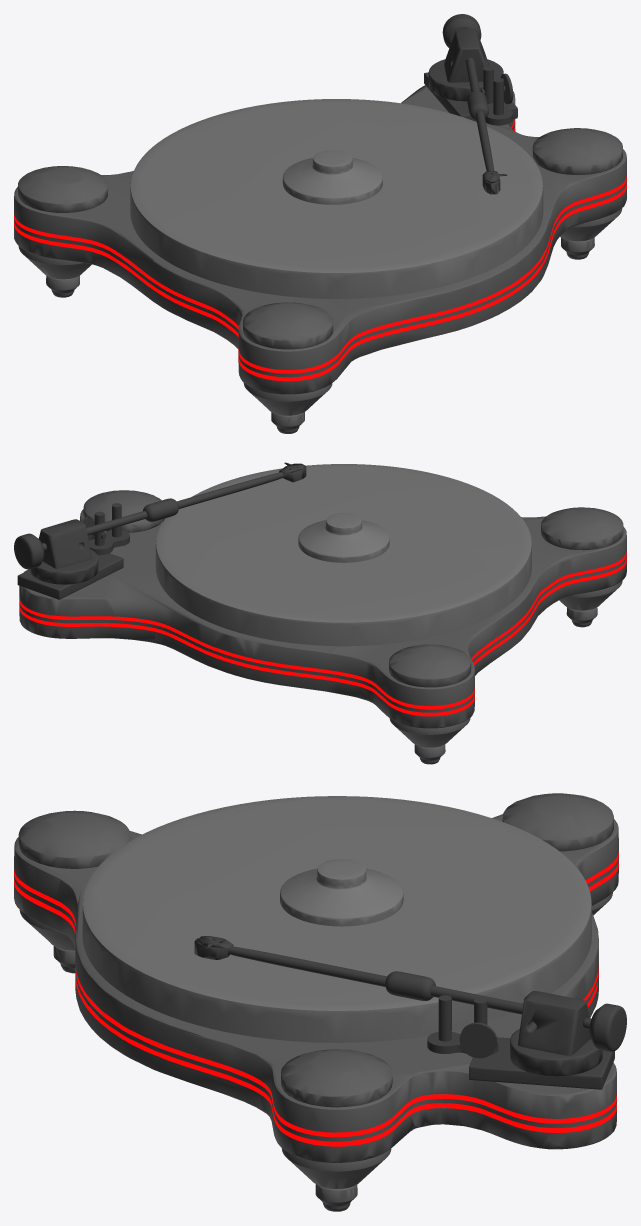
The model's file is turntable.glb.
The picture shows the model from 3 angles, top to bottom: view 1: azimuth 30°, elevation 25°; view 2: azimuth 150°, elevation 25°; view 3: azimuth 270°, elevation 25°; orthographic projection. The views are drawn at different scales.
Parts seen in each view (by area): view 1: Turntable_Disc, Stand, Holder_top_left, Stripes, Tonearm_Holder, Stand_top_left, Cap, Cartridge; view 2: Turntable_Disc, Stand, Holder_top_left, Tonearm_Holder, Stripes, Cap, Stand_top_left, Cartridge; view 3: Turntable_Disc, Stand, Holder_top_left, Tonearm_Holder, Stripes, Cap, Cartridge, Stand_top_left.
Part boxes in pixels (box(x1,y1,x2,y2)): Turntable_Disc: box(130, 99, 543, 298); Stand: box(14, 85, 626, 394); Holder_top_left: box(18, 128, 622, 349); Stripes: box(14, 119, 626, 381); Tonearm_Holder: box(424, 14, 517, 125); Stand_top_left: box(18, 208, 622, 433); Cap: box(282, 150, 382, 204); Cartridge: box(465, 58, 507, 198); Turntable_Disc: box(155, 464, 531, 646); Stand: box(19, 509, 626, 728); Holder_top_left: box(83, 490, 623, 687); Tonearm_Holder: box(14, 503, 129, 599); Stripes: box(19, 551, 626, 716); Cap: box(298, 513, 389, 562); Stand_top_left: box(389, 580, 622, 764); Cartridge: box(86, 462, 306, 535); Turntable_Disc: box(82, 796, 591, 1042); Stand: box(14, 814, 618, 1162); Holder_top_left: box(18, 793, 613, 1107); Tonearm_Holder: box(427, 991, 626, 1089); Stripes: box(14, 852, 618, 1146); Cap: box(280, 859, 403, 926); Cartridge: box(194, 936, 523, 1014); Stand_top_left: box(19, 892, 612, 1211).
Size of the model in its own units: 2.98 by 0.8945 by 2.51.
